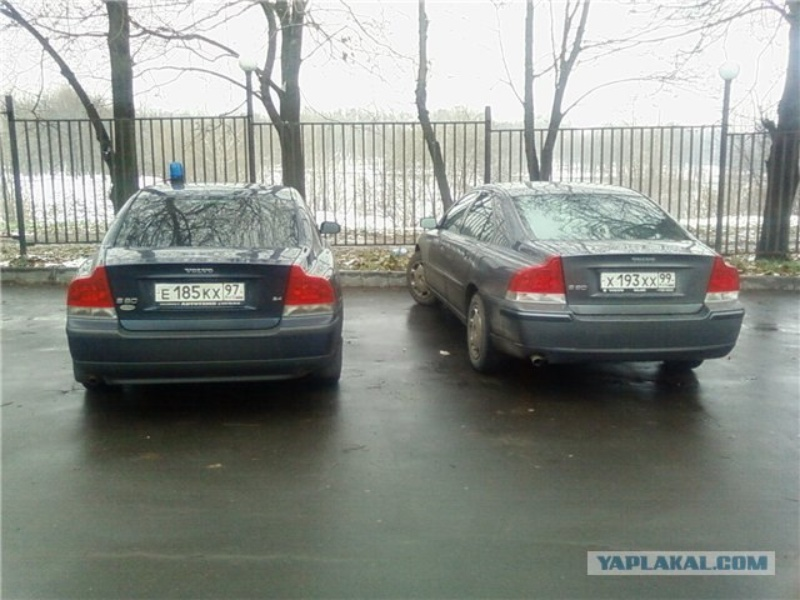car: (406, 182, 746, 371), (67, 184, 343, 392)
plate: (156, 283, 244, 301), (600, 272, 674, 287)
